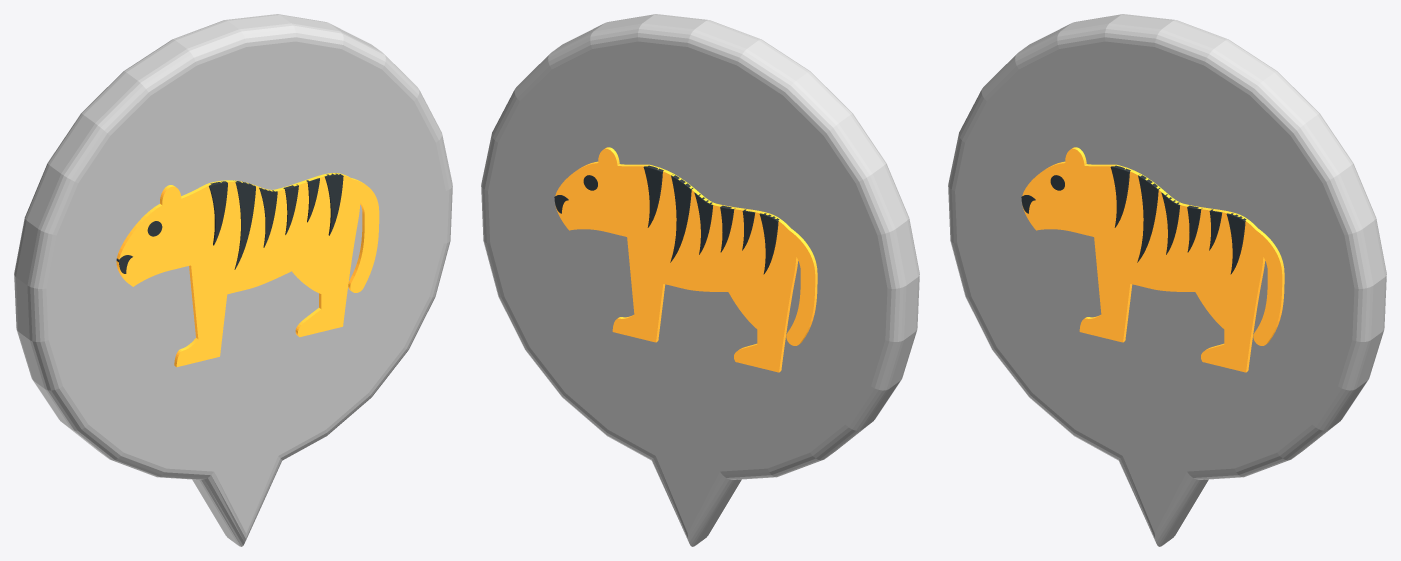
Rendered from tiger2.glb.
3 renders of one model, left to right at view 1: azimuth 30°, elevation 25°; view 2: azimuth 150°, elevation 25°; view 3: azimuth 330°, elevation 25°, orthographic.
Visible parts, largest first — view 1: EmotionBubble; view 2: EmotionBubble; view 3: EmotionBubble.
Part boxes in pixels (x1,y1,x2,y2): EmotionBubble: [14, 14, 452, 546]; EmotionBubble: [481, 14, 919, 546]; EmotionBubble: [948, 14, 1386, 546].
Size of the model in its own units: 5.29 by 6.16 by 0.718.
